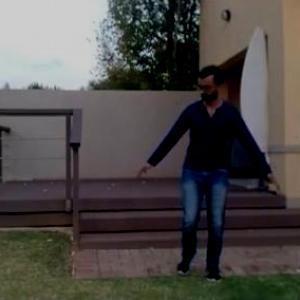land: (138, 54, 282, 283)
